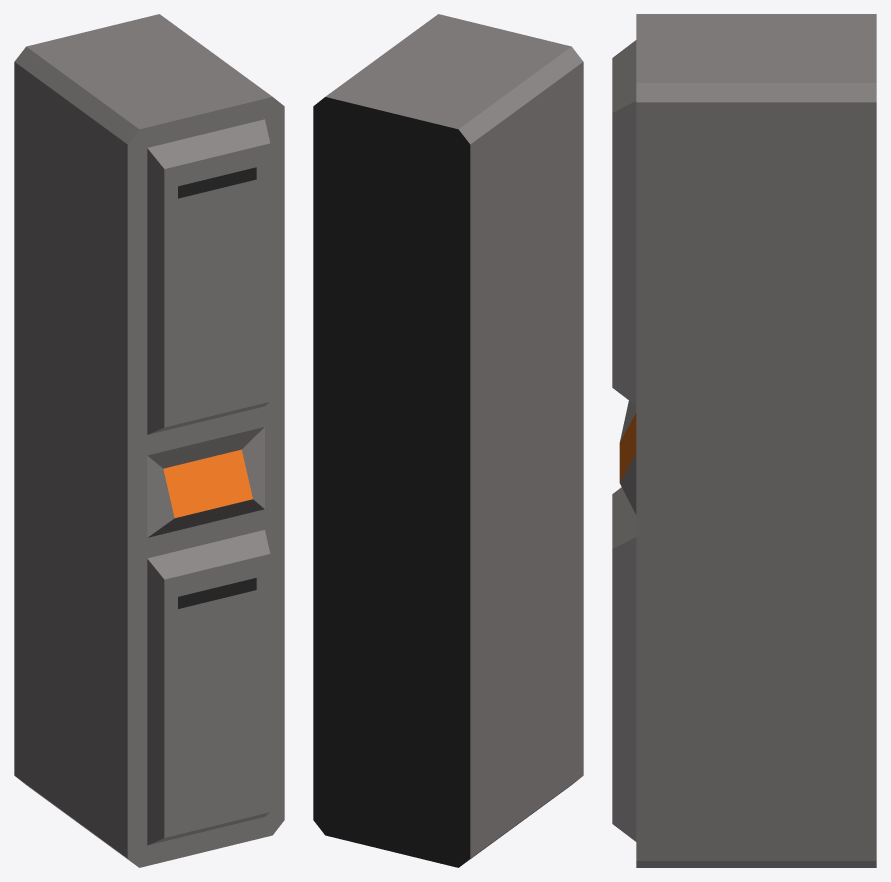
The model's file is scifi_scifi-locker.fbx.
3 views of the same model, side by side, from view 1: azimuth 30°, elevation 25°; view 2: azimuth 150°, elevation 25°; view 3: azimuth 270°, elevation 25° (orthographic). The views are drawn at different scales.
Parts seen in each view (by area): view 1: scifi_scifi_locker; view 2: scifi_scifi_locker; view 3: scifi_scifi_locker.
Part boxes in pixels (x1,y1,x2,y2): scifi_scifi_locker: [14, 14, 284, 867]; scifi_scifi_locker: [313, 14, 583, 867]; scifi_scifi_locker: [612, 14, 876, 867].
Size of the model in its own units: 44.44 by 200 by 61.11.
